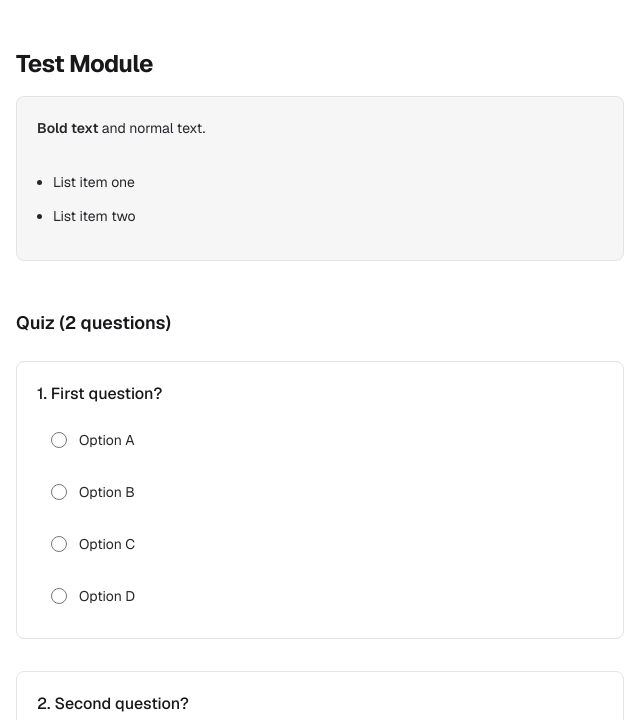
Test: ModuleQuiz › given submitted quiz, should show score
Click the radio button labelled "Option A". click: (59,440)
box: [51,432,67,448]
(page scrolled)
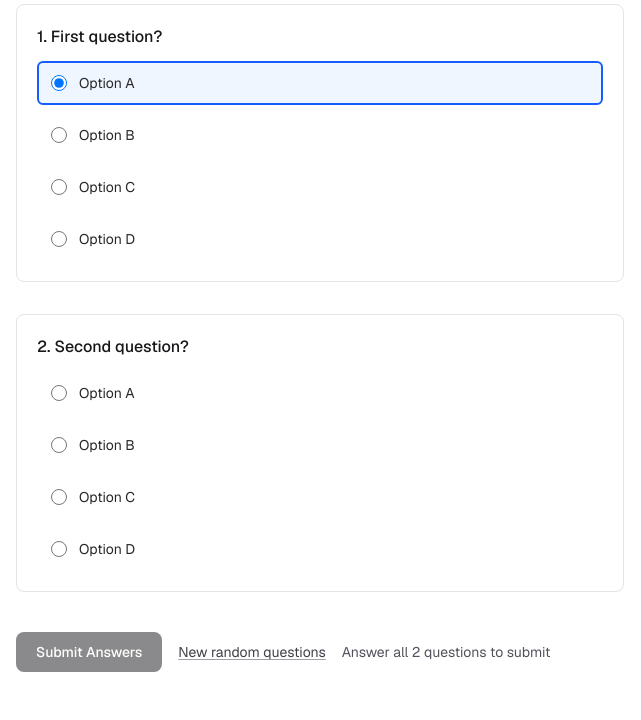
Click the radio button labelled "Option C" below "Second question?". click: (59,497)
box: [51,489,67,505]
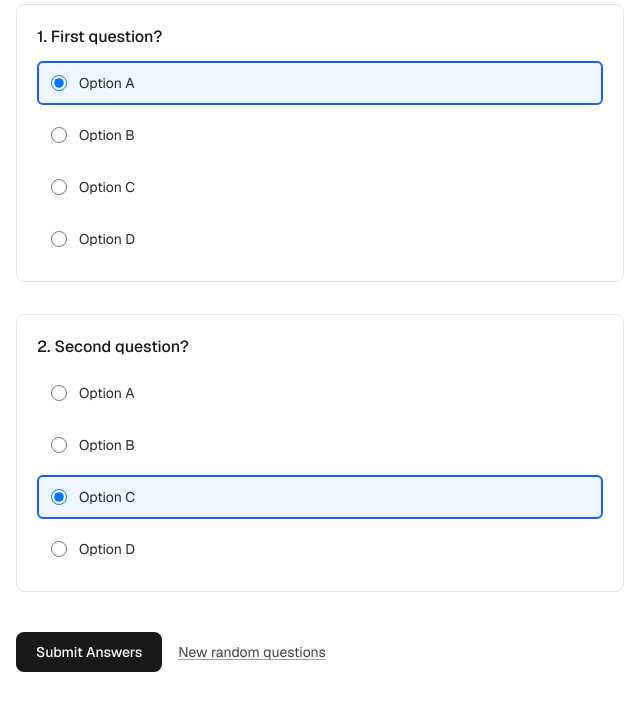
Click the button "Submit Answers". click: (89,652)
box: [16,632,162,672]
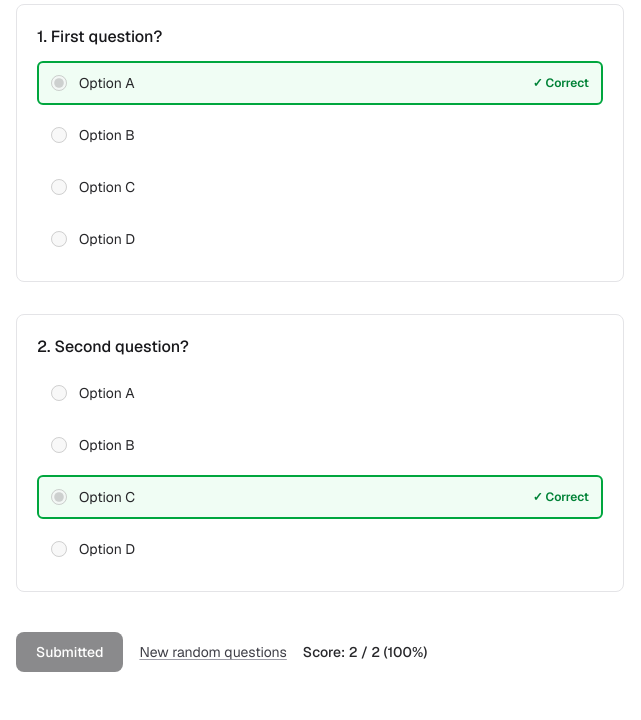
Now the text "Score: 2 / 2 (100%)" is shown, box [303,642,427,662]
